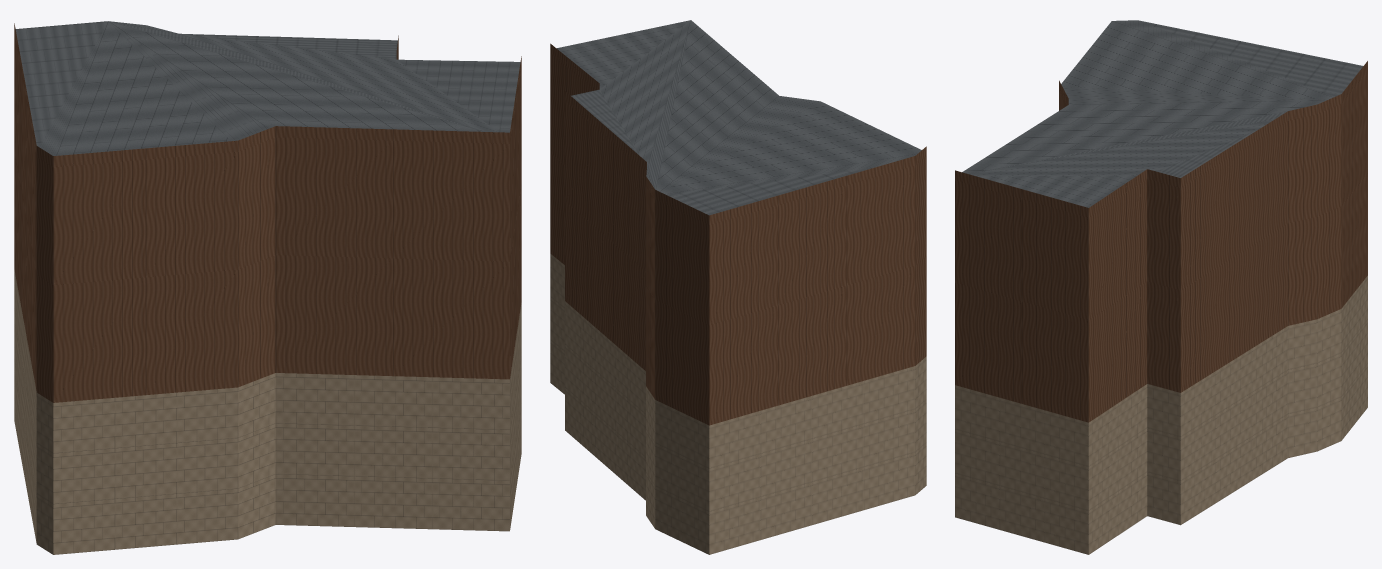
File: bld_c23_47_397.gltf
The picture shows the model from 3 angles, left to right: view 1: azimuth 30°, elevation 25°; view 2: azimuth 150°, elevation 25°; view 3: azimuth 270°, elevation 25°; orthographic projection. The views are drawn at different scales.
Visible parts, largest first — view 1: bld_c23_47_397; view 2: bld_c23_47_397; view 3: bld_c23_47_397.
Part boxes in pixels (x1,y1,x2,y2): bld_c23_47_397: (14, 21, 521, 554); bld_c23_47_397: (550, 20, 926, 554); bld_c23_47_397: (955, 20, 1367, 554).
Bounding box in the file's own units: 16.04 × 13.38 × 14.42.
4 materials, 4 textured.
